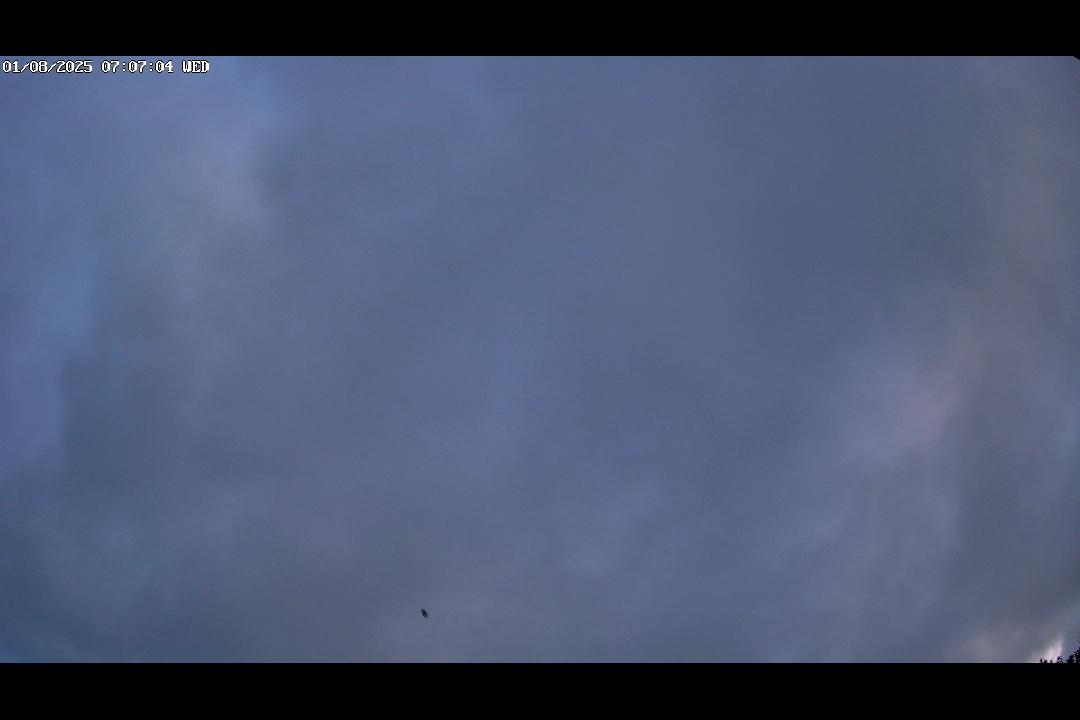WildLife: (404, 602, 445, 625)
